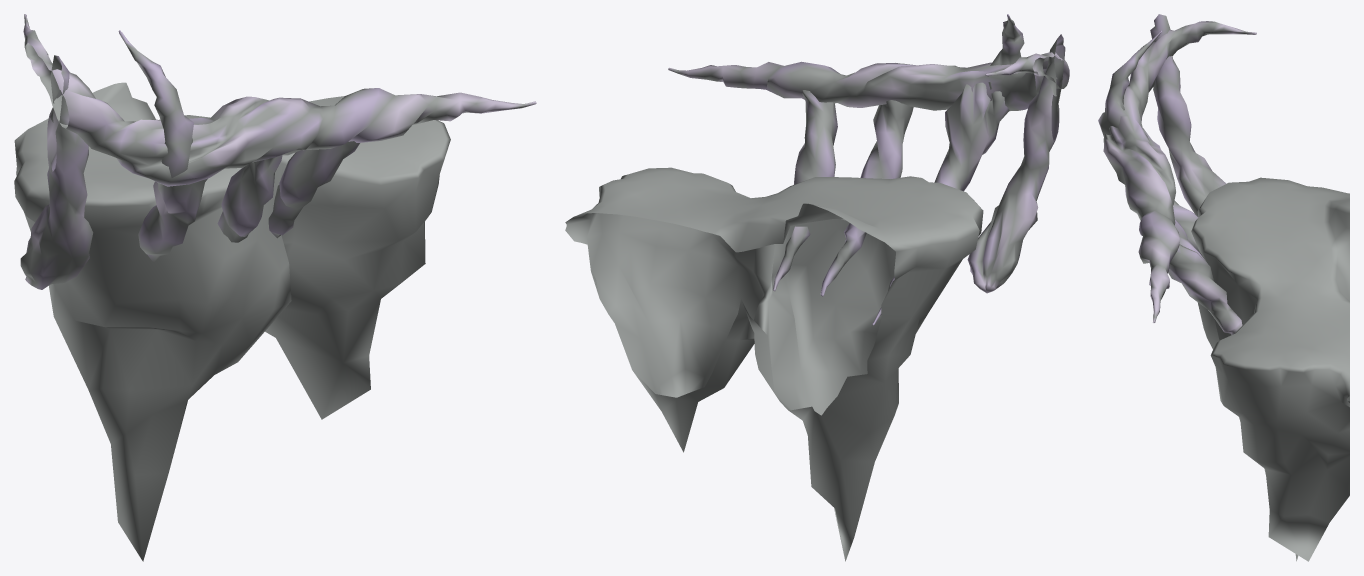
3 renders of one model, left to right at view 1: azimuth 30°, elevation 25°; view 2: azimuth 150°, elevation 25°; view 3: azimuth 270°, elevation 25°, orthographic. The views are drawn at different scales.
Parts seen in each view (by area): view 1: G:\FFXIV-MapTools\exports\a2f2\bg\ex1\03_abr_a2\fld\a2f2\bgp (×5); view 2: G:\FFXIV-MapTools\exports\a2f2\bg\ex1\03_abr_a2\fld\a2f2\bgp (×5); view 3: G:\FFXIV-MapTools\exports\a2f2\bg\ex1\03_abr_a2\fld\a2f2\bgp (×5).
Boxes of the visible parts, x1,y1,x2,y2 form: G:\FFXIV-MapTools\exports\a2f2\bg\ex1\03_abr_a2\fld\a2f2\bgp (×5): (14, 14, 536, 561); G:\FFXIV-MapTools\exports\a2f2\bg\ex1\03_abr_a2\fld\a2f2\bgp (×5): (565, 14, 1069, 561); G:\FFXIV-MapTools\exports\a2f2\bg\ex1\03_abr_a2\fld\a2f2\bgp (×5): (1098, 14, 1349, 561).
Size of the model in its own units: 128 by 160 by 74.74.
